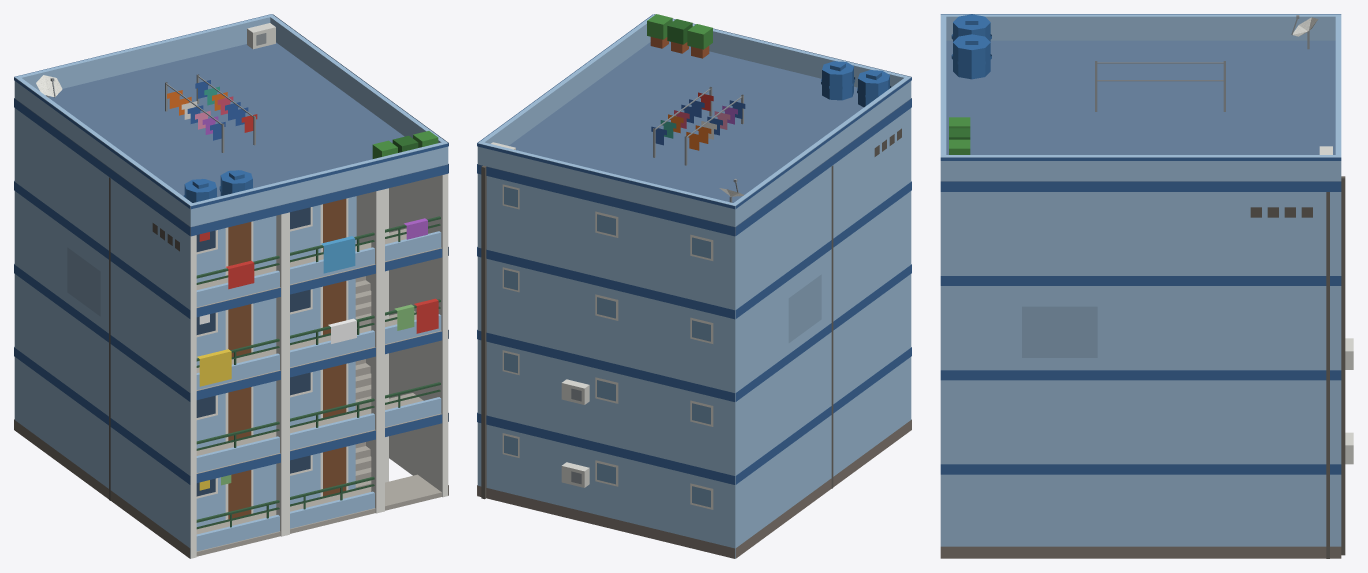
The model's file is kos_03.glb.
3 views of the same model, side by side, from view 1: azimuth 30°, elevation 25°; view 2: azimuth 150°, elevation 25°; view 3: azimuth 270°, elevation 25° (orthographic). The views are drawn at different scales.
Visible parts, largest first — view 1: kos_03; view 2: kos_03; view 3: kos_03.
Boxes of the visible parts, bbox=[...] form: kos_03: bbox=[14, 14, 448, 558]; kos_03: bbox=[477, 14, 911, 558]; kos_03: bbox=[940, 14, 1353, 558].
Bounding box in the file's own units: 9.01 × 11.97 × 10.94.
